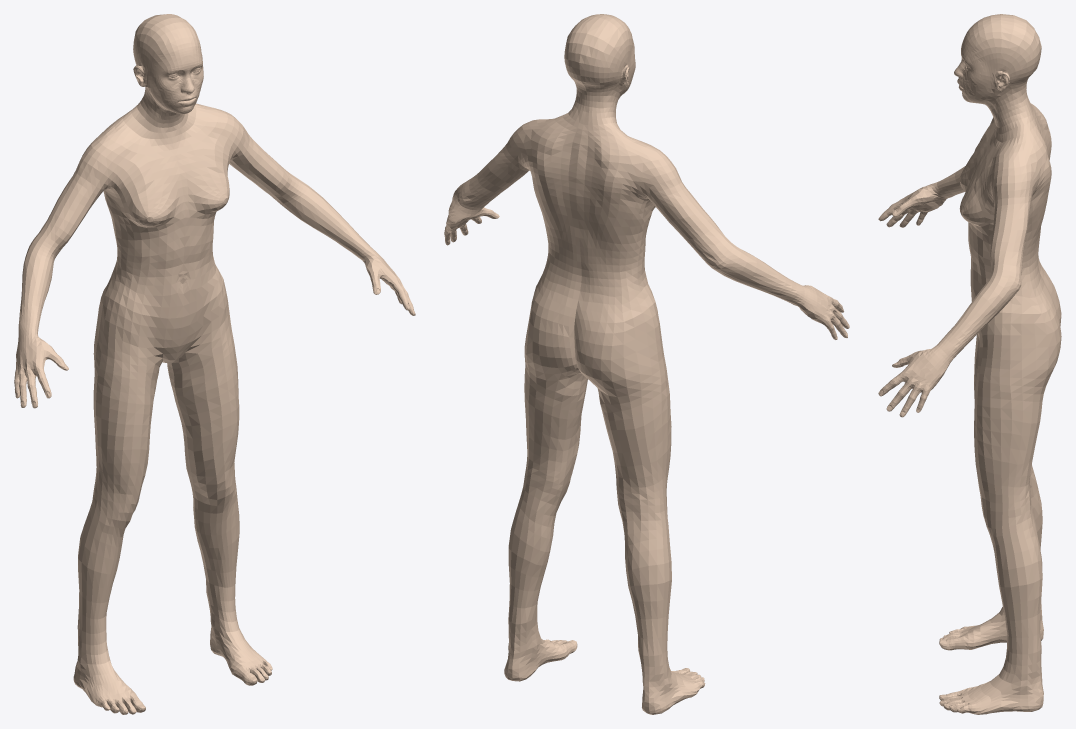
Rendered from female-mature-lean-high.glb.
The picture shows the model from 3 angles, left to right: view 1: azimuth 30°, elevation 25°; view 2: azimuth 150°, elevation 25°; view 3: azimuth 270°, elevation 25°; orthographic projection.
Parts seen in each view (by area): view 1: world; view 2: world; view 3: world.
Boxes of the visible parts, x1,y1,x2,y2 form: world: [14, 14, 415, 714]; world: [444, 14, 849, 714]; world: [878, 14, 1061, 714].
Bounding box in the file's own units: 1.12 × 1.81 × 0.4552.
